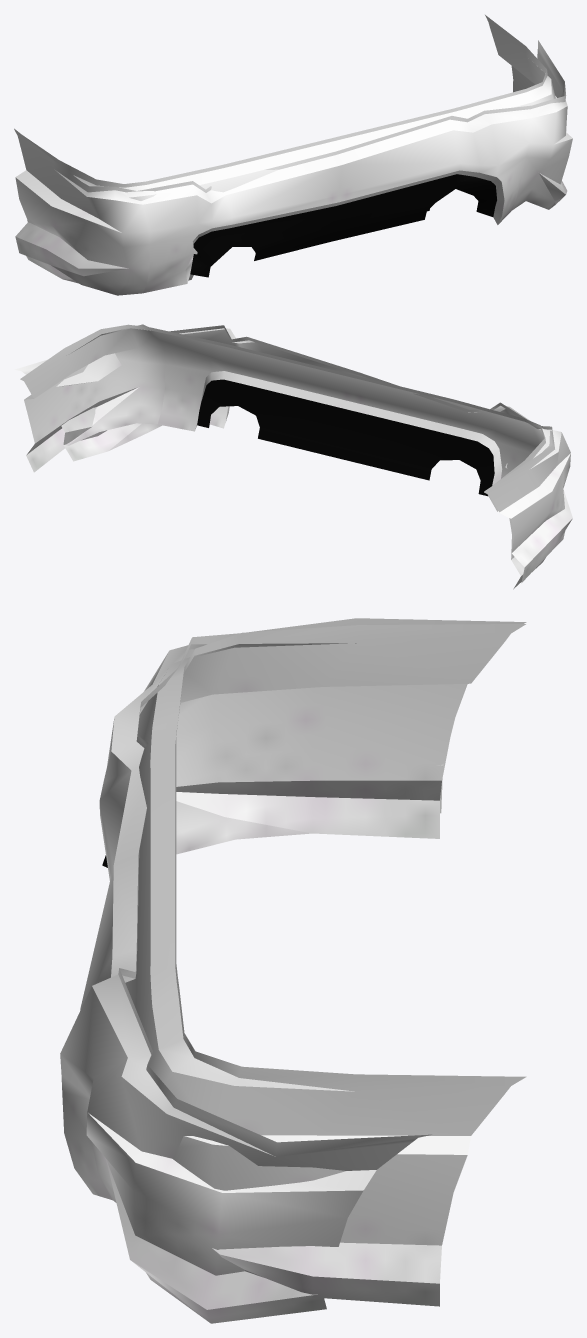
File: rbmp_c_s.glb
The picture shows the model from 3 angles, top to bottom: view 1: azimuth 30°, elevation 25°; view 2: azimuth 150°, elevation 25°; view 3: azimuth 270°, elevation 25°; orthographic projection. The views are drawn at different scales.
Parts seen in each view (by area): view 1: rbmp_c_s_dam, rbmp_c_s; view 2: rbmp_c_s, rbmp_c_s_dam; view 3: rbmp_c_s, rbmp_c_s_dam.
Boxes of the visible parts, x1,y1,x2,y2 form: rbmp_c_s_dam: [14, 40, 572, 295]; rbmp_c_s: [14, 15, 556, 283]; rbmp_c_s: [20, 324, 554, 589]; rbmp_c_s_dam: [14, 324, 572, 582]; rbmp_c_s: [125, 624, 526, 1306]; rbmp_c_s_dam: [60, 618, 526, 1323].
Size of the model in its own units: 2.33 by 0.5744 by 0.9175.
Materials: 2 (1 with a texture image).
